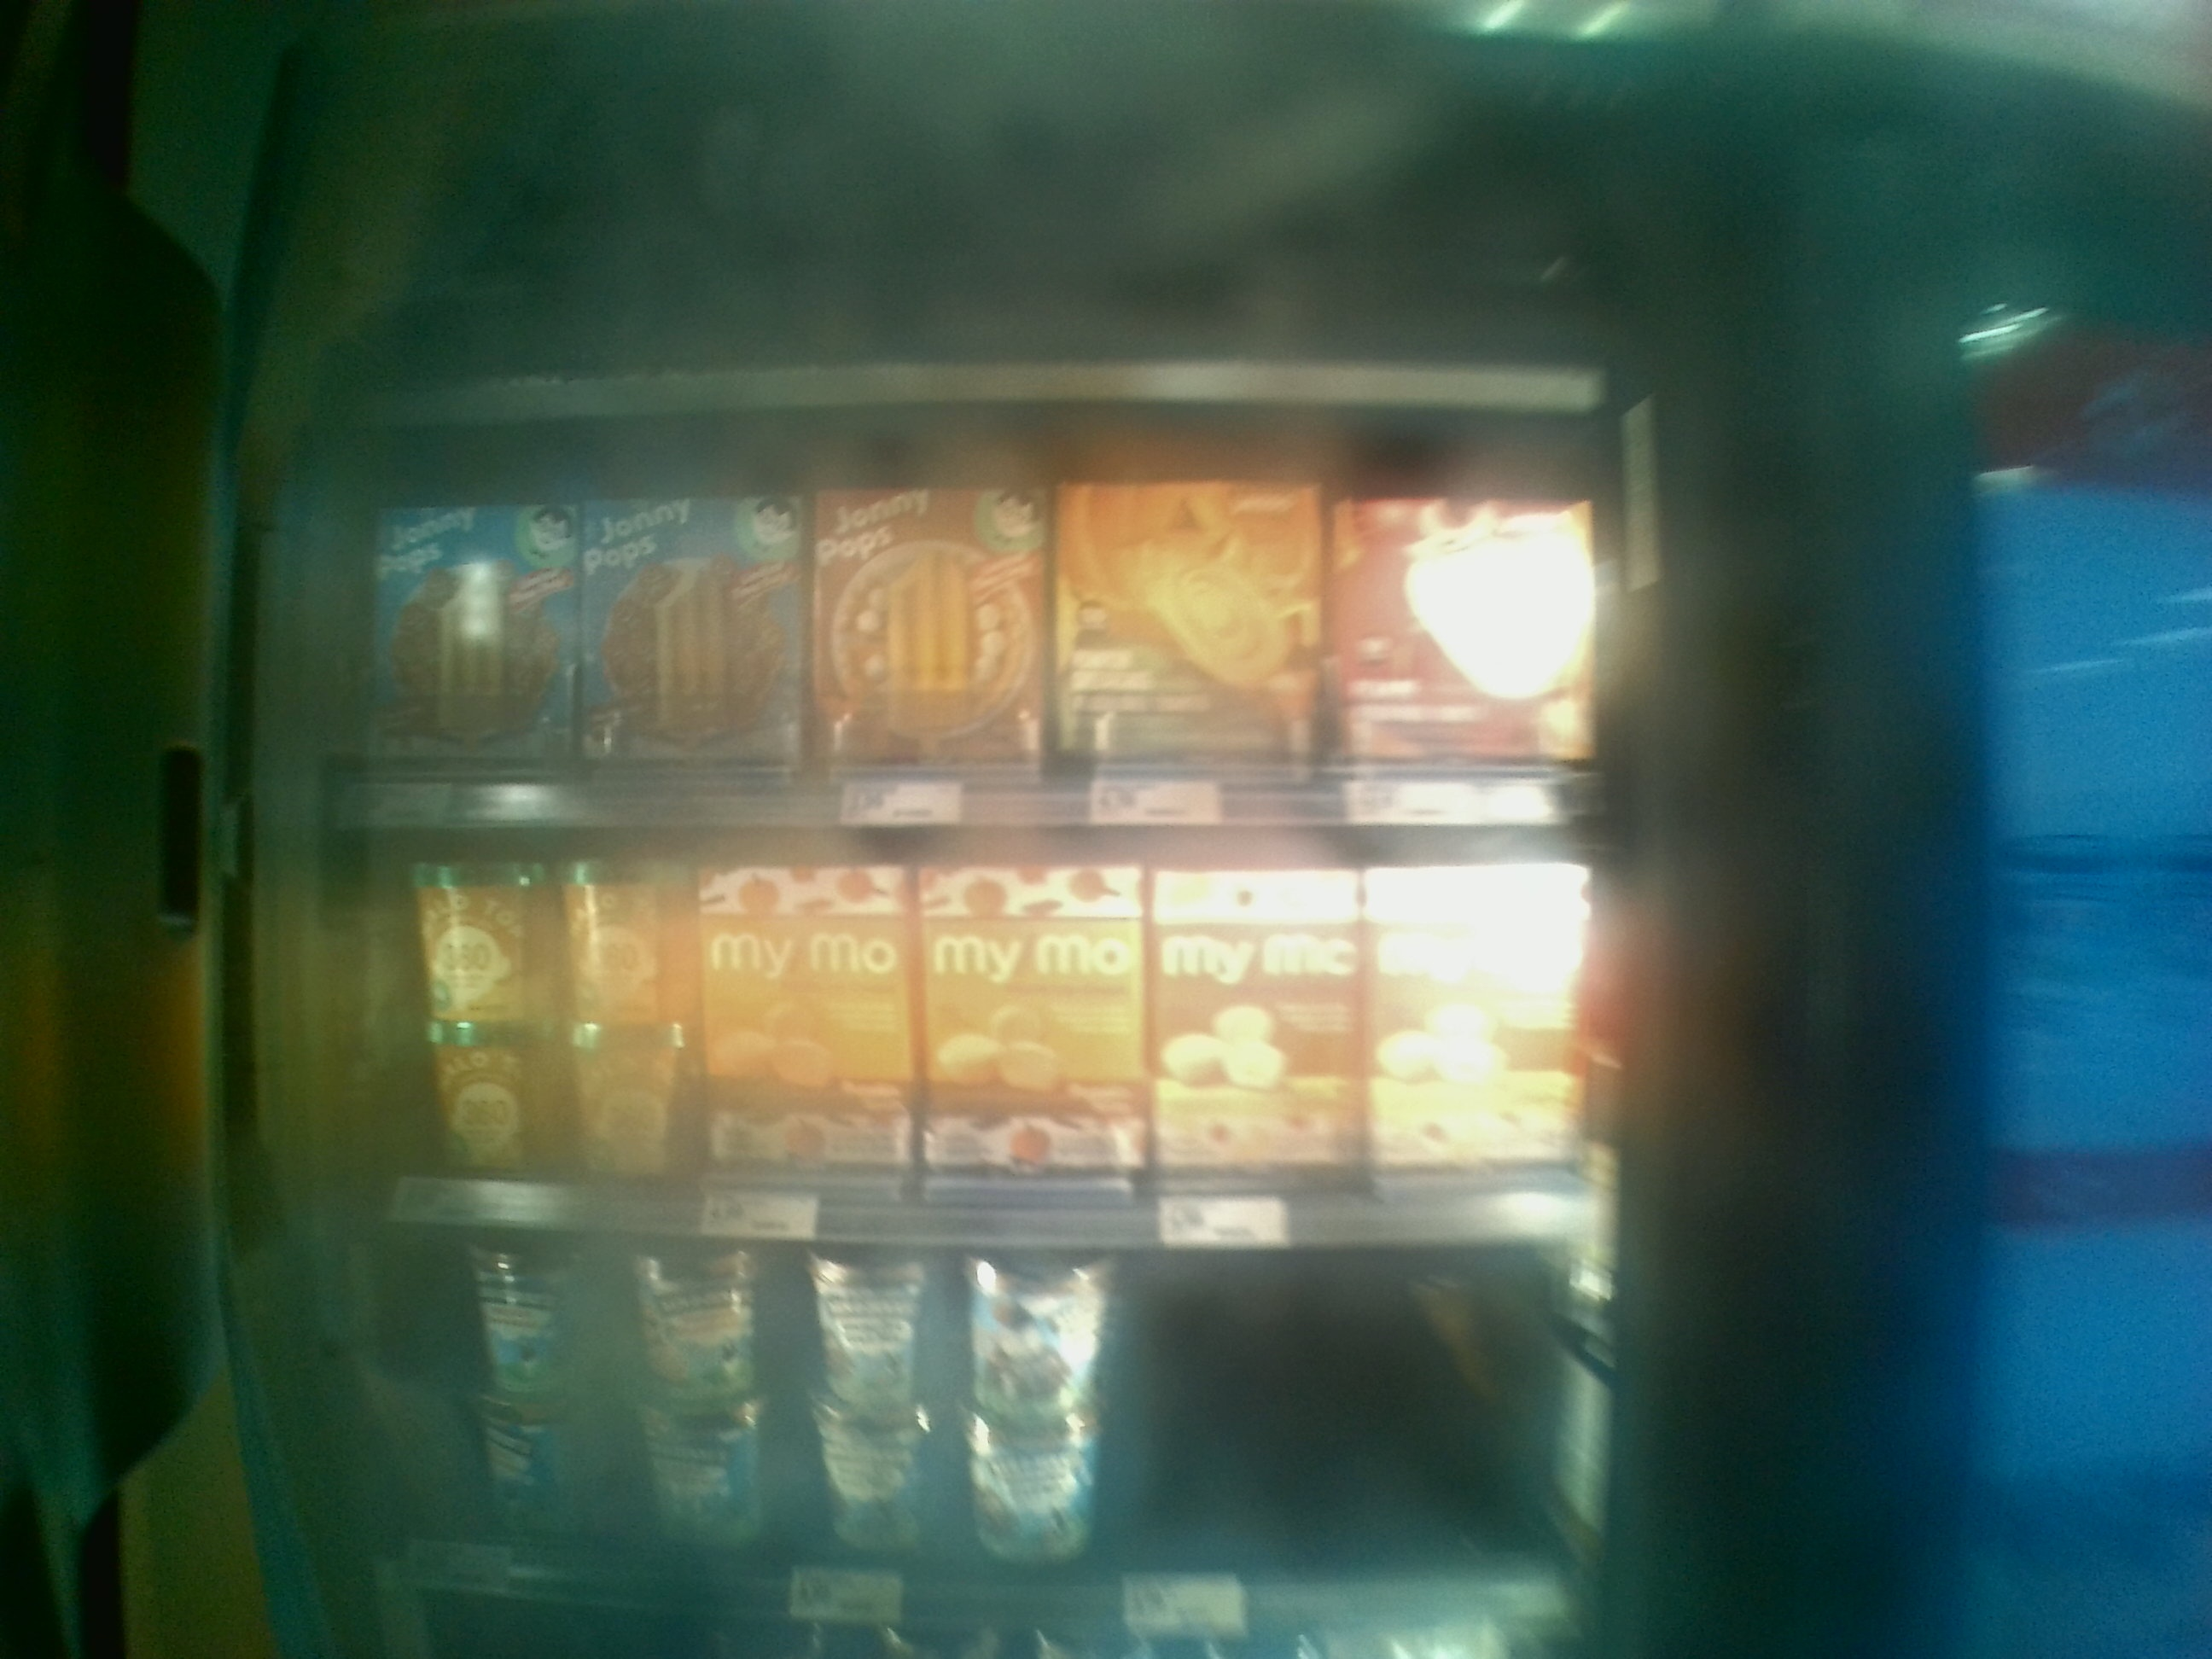shelf: (319, 828, 1630, 1239), (312, 1225, 1630, 1629), (333, 432, 1639, 838)
